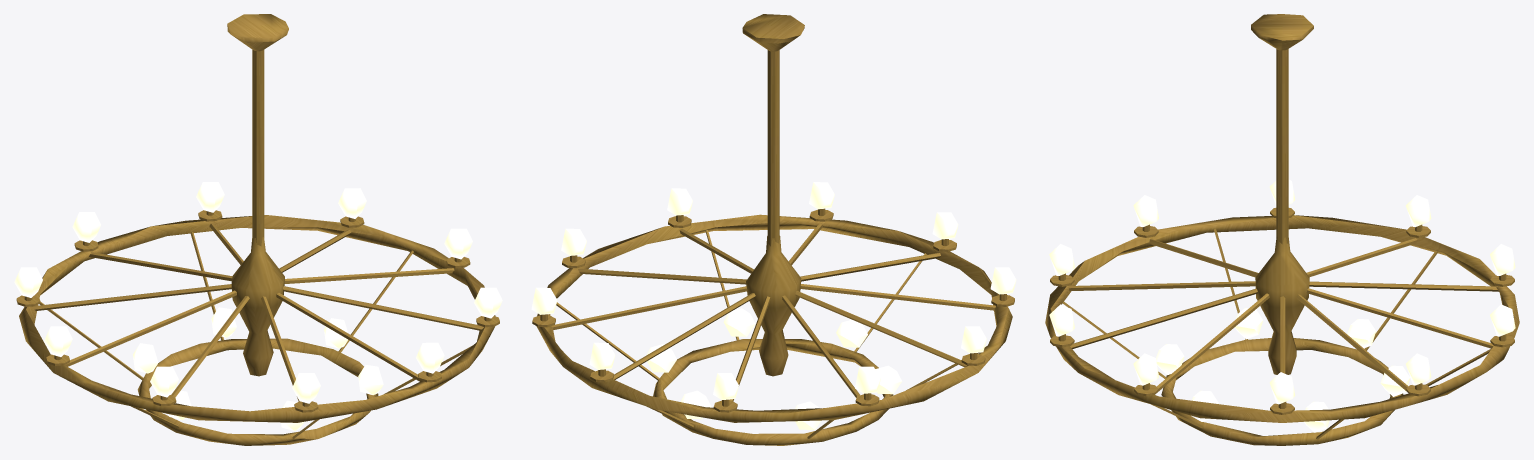
The model's file is lustre-75-leve.glb.
3 renders of one model, left to right at view 1: azimuth 30°, elevation 25°; view 2: azimuth 150°, elevation 25°; view 3: azimuth 270°, elevation 25°, orthographic.
Visible parts, largest first — view 1: aro, aro-de-baixo, corpo, haste, canopla, braco.009, braco.004, braco.005, braco, braco.008, braco.003, braco.006 (+15 smaller); view 2: aro, aro-de-baixo, corpo, haste, canopla, braco.001, braco.006, braco.005, braco, braco.002, braco.007, braco.004 (+16 smaller); view 3: aro, aro-de-baixo, corpo, haste, canopla, braco.008, braco.002, braco.003, braco.007, braco.009, braco.001, braco.004 (+14 smaller).
Boxes of the visible parts, left/top/right/bottom form: aro: left=19, top=215, right=495, bottom=422; aro-de-baixo: left=137, top=338, right=378, bottom=445; corpo: left=231, top=237, right=284, bottom=376; haste: left=252, top=50, right=264, bottom=246; canopla: left=227, top=14, right=288, bottom=51; braco.009: left=283, top=286, right=483, bottom=330; braco.004: left=32, top=284, right=231, bottom=310; braco.005: left=65, top=290, right=236, bottom=366; braco: left=284, top=268, right=454, bottom=283; braco.008: left=276, top=293, right=421, bottom=381; braco.003: left=89, top=252, right=232, bottom=281; braco.006: left=171, top=296, right=249, bottom=397; aro: left=536, top=214, right=1012, bottom=422; aro-de-baixo: left=653, top=339, right=893, bottom=445; corpo: left=746, top=236, right=801, bottom=376; haste: left=767, top=50, right=779, bottom=246; canopla: left=742, top=14, right=804, bottom=51; braco.001: left=551, top=286, right=747, bottom=329; braco.006: left=800, top=284, right=995, bottom=310; braco.005: left=795, top=291, right=966, bottom=367; braco: left=578, top=268, right=746, bottom=284; braco.002: left=613, top=293, right=755, bottom=379; braco.007: left=800, top=253, right=940, bottom=281; braco.004: left=782, top=295, right=859, bottom=397; aro: left=1045, top=215, right=1519, bottom=422; aro-de-baixo: left=1161, top=338, right=1403, bottom=445; corpo: left=1255, top=236, right=1309, bottom=374; haste: left=1276, top=49, right=1288, bottom=244; canopla: left=1251, top=14, right=1313, bottom=50; braco.008: left=1070, top=288, right=1257, bottom=348; braco.002: left=1306, top=288, right=1493, bottom=348; braco.003: left=1309, top=281, right=1498, bottom=291; braco.007: left=1069, top=281, right=1255, bottom=291; braco.009: left=1156, top=293, right=1269, bottom=392; braco.001: left=1296, top=294, right=1408, bottom=390; braco.004: left=1306, top=238, right=1417, bottom=277.
Size of the model in its own units: 1.59 by 1.33 by 1.54.
Materials: 2 (1 with a texture image).
